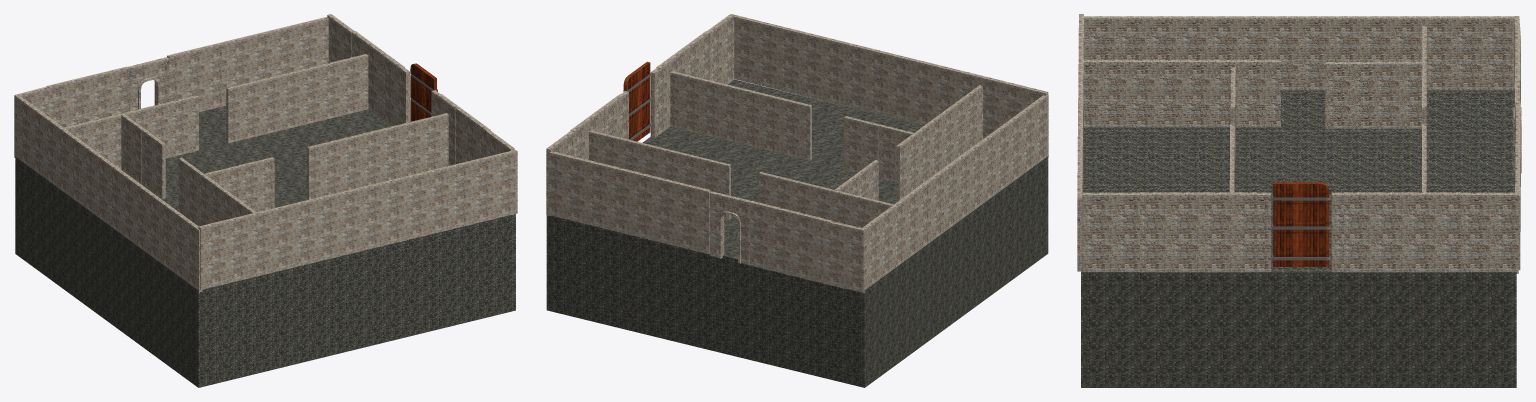
The model's file is map_nico.obj.
3 renders of one model, left to right at view 1: azimuth 30°, elevation 25°; view 2: azimuth 150°, elevation 25°; view 3: azimuth 270°, elevation 25°, orthographic. The views are drawn at different scales.
Visible parts, largest first — view 1: FloorBox, Box001.001, Box001.008, Box001.012, Box001.005, Box001.000_Box001.023, Box001.009, Box001.006, Box001.011, Box001.010_Box001.024, Box001.018_Box001.029, Box001.026 (+10 smaller); view 2: FloorBox, Box001.001, Box001.008, Box001.005, Box001.000_Box001.023, Box001.011, Box001.006, Box001.012, Box001.009, Box001.007, Box001.026, Box001.018_Box001.029 (+9 smaller); view 3: FloorBox, Box001.008, Box001.011, Box001.003, Box001.021, DoorLeft, Box001.004, Box001.020, Box001.014_Box001.027, Box001.016_Box001.028, Box001.001, Box001.013_Box001.025 (+4 smaller).
Part boxes in pixels (left/top/right/bottom): FloorBox: left=15, top=105, right=515, bottom=387; Box001.001: left=198, top=150, right=517, bottom=289; Box001.008: left=16, top=96, right=202, bottom=292; Box001.012: left=226, top=54, right=368, bottom=143; Box001.005: left=167, top=17, right=328, bottom=111; Box001.000_Box001.023: left=307, top=113, right=448, bottom=199; Box001.009: left=64, top=95, right=198, bottom=169; Box001.006: left=46, top=66, right=129, bottom=127; Box001.011: left=178, top=157, right=256, bottom=226; Box001.010_Box001.024: left=381, top=55, right=409, bottom=126; Box001.018_Box001.029: left=238, top=157, right=274, bottom=212; Box001.026: left=128, top=57, right=169, bottom=111; FloorBox: left=546, top=79, right=1048, bottom=387; Box001.001: left=731, top=14, right=1048, bottom=138; Box001.008: left=862, top=95, right=1048, bottom=289; Box001.005: left=549, top=151, right=710, bottom=254; Box001.000_Box001.023: left=670, top=71, right=811, bottom=160; Box001.011: left=896, top=85, right=982, bottom=201; Box001.006: left=750, top=201, right=831, bottom=283; Box001.012: left=589, top=130, right=730, bottom=219; Box001.009: left=758, top=172, right=893, bottom=227; Box001.007: left=823, top=221, right=865, bottom=292; Box001.026: left=709, top=191, right=750, bottom=265; Box001.018_Box001.029: left=844, top=116, right=879, bottom=172; FloorBox: left=1081, top=90, right=1516, bottom=387; Box001.008: left=1084, top=16, right=1514, bottom=90; Box001.011: left=1083, top=60, right=1280, bottom=127; Box001.003: left=1344, top=192, right=1460, bottom=272; Box001.021: left=1140, top=192, right=1256, bottom=272; DoorLeft: left=1272, top=182, right=1330, bottom=266; Box001.004: left=1461, top=192, right=1518, bottom=273; Box001.020: left=1082, top=192, right=1139, bottom=271; Box001.014_Box001.027: left=1325, top=62, right=1374, bottom=128; Box001.016_Box001.028: left=1374, top=61, right=1423, bottom=128; Box001.001: left=1077, top=14, right=1083, bottom=271; Box001.013_Box001.025: left=1257, top=192, right=1271, bottom=271.
Size of the model in its own units: 517 by 266 by 523.
